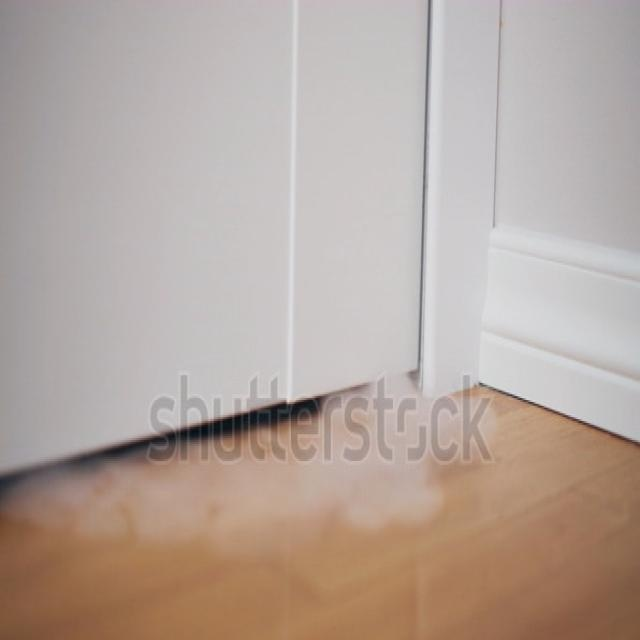smoke: (8, 366, 493, 541)
